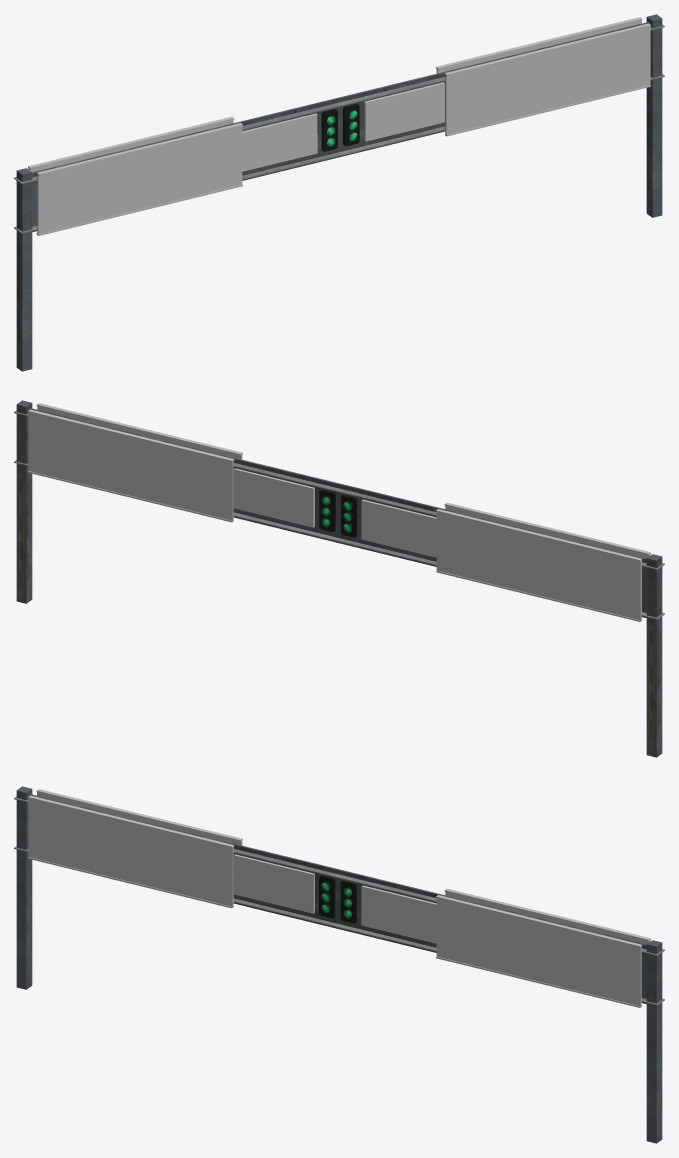
Rendered from Post-Start-01.fbx.
3 renders of one model, top to bottom at view 1: azimuth 30°, elevation 25°; view 2: azimuth 150°, elevation 25°; view 3: azimuth 330°, elevation 25°, orthographic.
Visible parts, largest first — view 1: Post; view 2: Post; view 3: Post.
Part boxes in pixels (x1,y1,x2,y2): Post: (14, 14, 664, 371); Post: (14, 400, 664, 757); Post: (14, 786, 664, 1143).
Bounding box in the file's own units: 3063 × 896 × 90.08.
